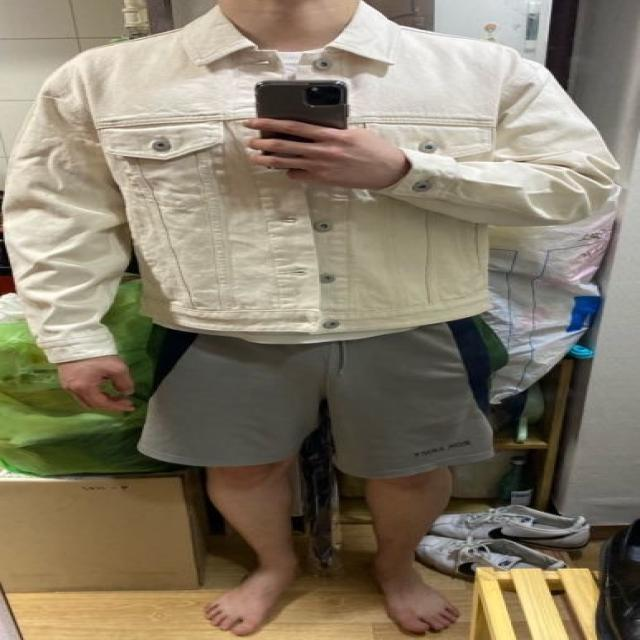jacket: (10, 0, 607, 344)
shortpants: (136, 314, 493, 481)
